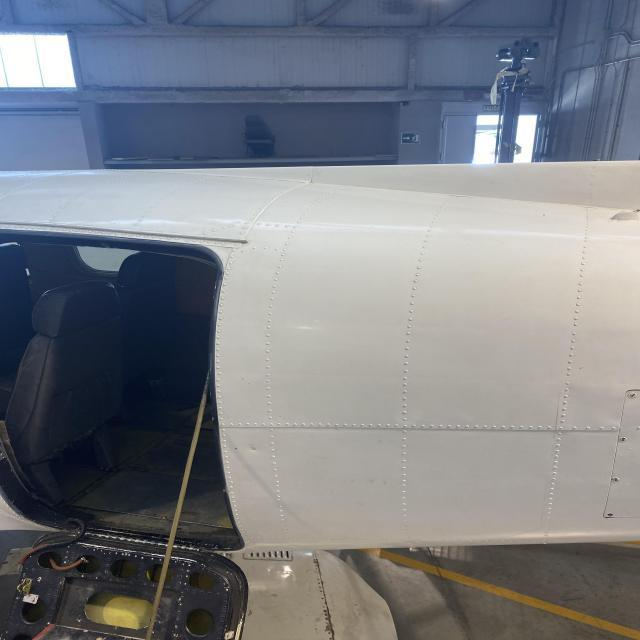Dent: (247, 444, 258, 454)
